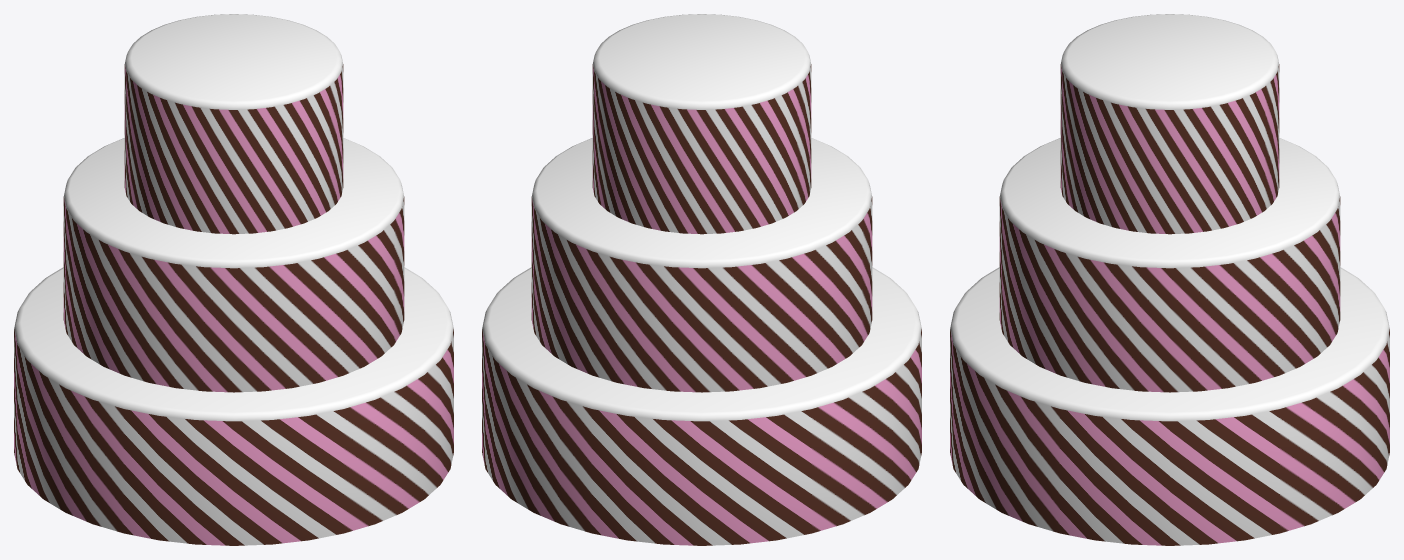
Rendered from Cake_3Tiersfix.fbx.
3 views of the same model, side by side, from view 1: azimuth 30°, elevation 25°; view 2: azimuth 150°, elevation 25°; view 3: azimuth 270°, elevation 25° (orthographic).
Visible parts, largest first — view 1: Cake_Lrg, Cake_Med, Cake_Sml; view 2: Cake_Lrg, Cake_Med, Cake_Sml; view 3: Cake_Lrg, Cake_Med, Cake_Sml.
Part boxes in pixels (box(x1,y1,x2,y2)): Cake_Lrg: box(14, 267, 453, 545); Cake_Med: box(63, 138, 404, 392); Cake_Sml: box(124, 14, 343, 234); Cake_Lrg: box(482, 267, 921, 545); Cake_Med: box(531, 138, 872, 392); Cake_Sml: box(592, 14, 811, 234); Cake_Lrg: box(950, 267, 1389, 545); Cake_Med: box(999, 138, 1340, 392); Cake_Sml: box(1060, 14, 1279, 234).
Size of the model in its own units: 24059 by 23875 by 24059.
